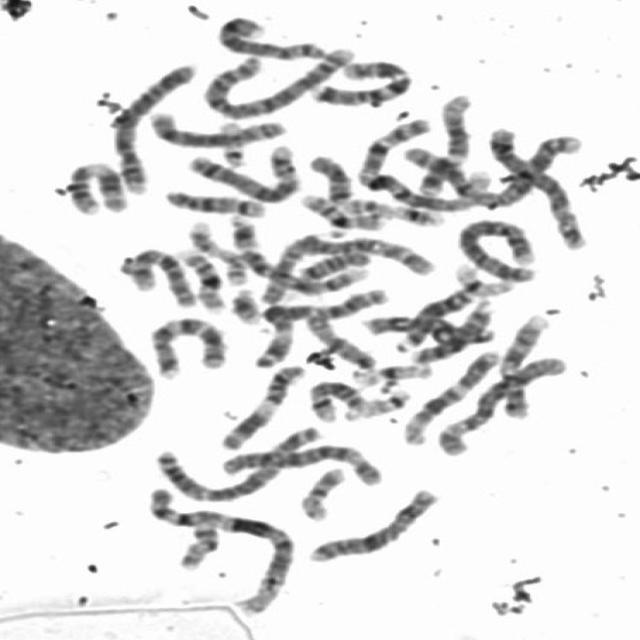A1: (139, 480, 299, 618), (352, 113, 498, 209)
A2: (344, 124, 586, 213), (196, 41, 362, 120)
A3: (147, 420, 327, 504), (250, 283, 389, 370)
B4: (103, 58, 200, 196), (452, 213, 540, 284)
B5: (482, 122, 591, 250), (179, 140, 303, 203)
C10: (296, 233, 437, 280), (112, 242, 202, 310)
C11: (213, 360, 309, 452), (61, 156, 131, 216)
C12: (395, 342, 503, 448), (413, 89, 477, 200)
C6: (428, 352, 570, 458), (214, 439, 388, 488)
C7: (304, 53, 418, 108), (144, 311, 231, 380)
C8: (142, 106, 289, 149), (211, 11, 330, 62)
C9: (237, 245, 373, 296), (493, 308, 554, 421)
D13: (406, 296, 496, 366), (389, 282, 477, 353)
D14: (158, 185, 268, 218), (303, 375, 372, 423)
D15: (262, 228, 347, 306), (298, 310, 380, 374)
E16: (293, 189, 389, 231), (174, 245, 228, 314)
E17: (182, 217, 251, 286), (338, 191, 447, 234)
E18: (302, 149, 356, 205), (292, 247, 374, 282)
F19: (447, 258, 517, 298), (348, 358, 434, 387)
F20: (293, 462, 348, 522), (172, 518, 224, 571)
G21: (223, 210, 262, 251), (226, 283, 264, 325)
G22: (210, 115, 251, 169), (354, 384, 414, 418)
X: (303, 483, 444, 565), (358, 309, 501, 346)
